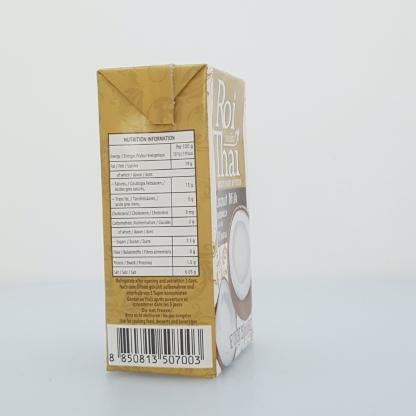-------------: (97, 63, 253, 378)
